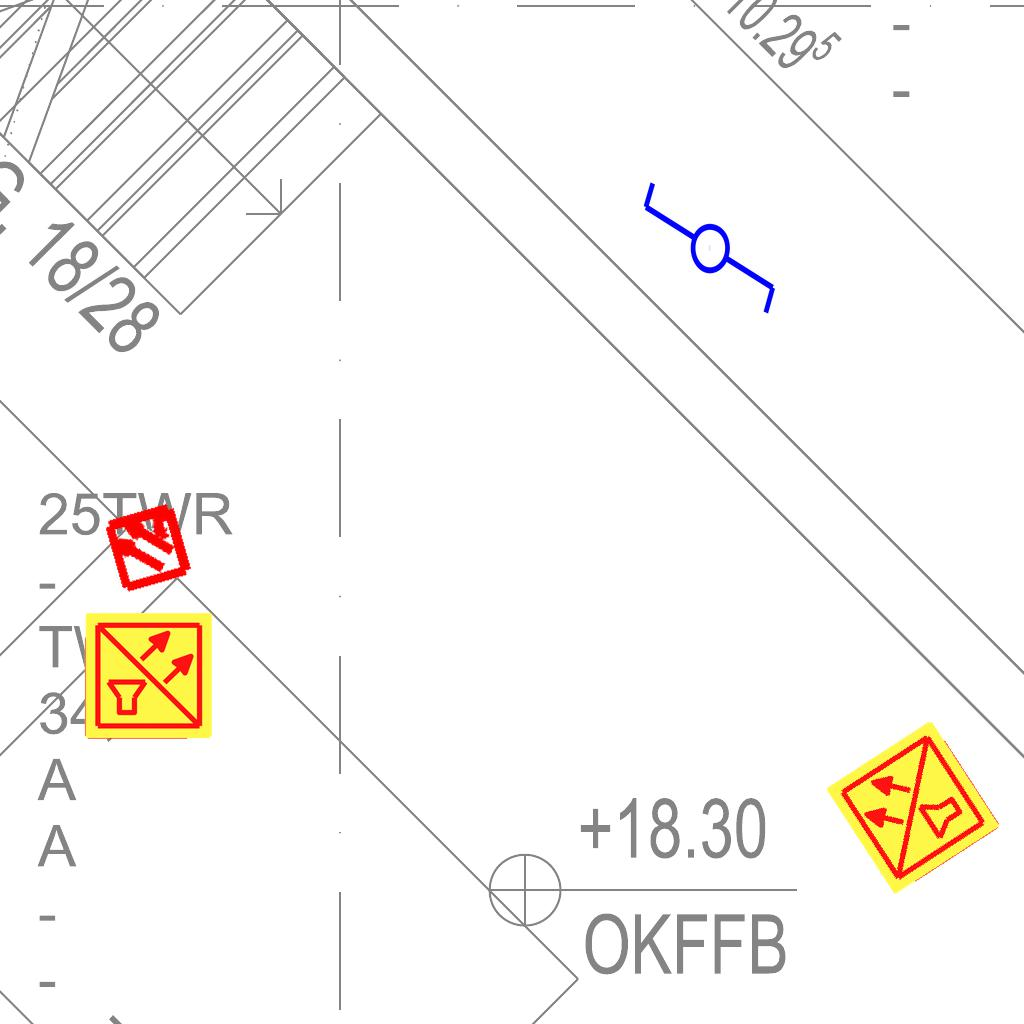OKW_Multisensormelder_(Kombination_optischer_Rauch-Kahlenmonoxid_Waerme-Melder): (821, 715, 1005, 899), (83, 610, 215, 742)
OT_Multisensormelder_(Kombination_RMO_WMD): (77, 475, 218, 616)
Wechselschalter: (636, 178, 780, 335)
